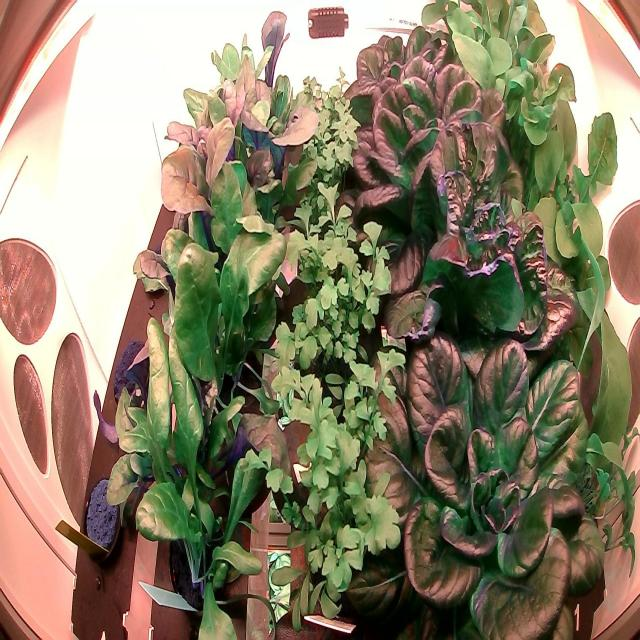Ready: (342, 314, 617, 640), (334, 109, 586, 357), (338, 49, 533, 224), (334, 17, 503, 158)
pod: (109, 328, 155, 422), (82, 471, 129, 561)
